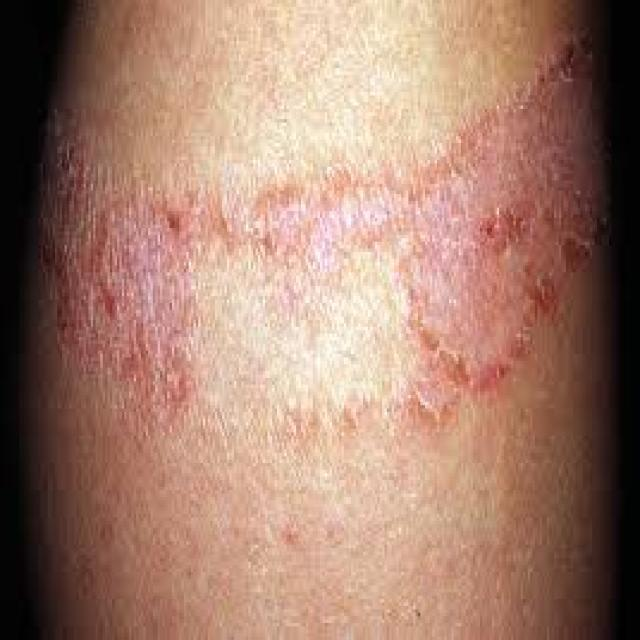Eczema: (46, 33, 604, 423)
